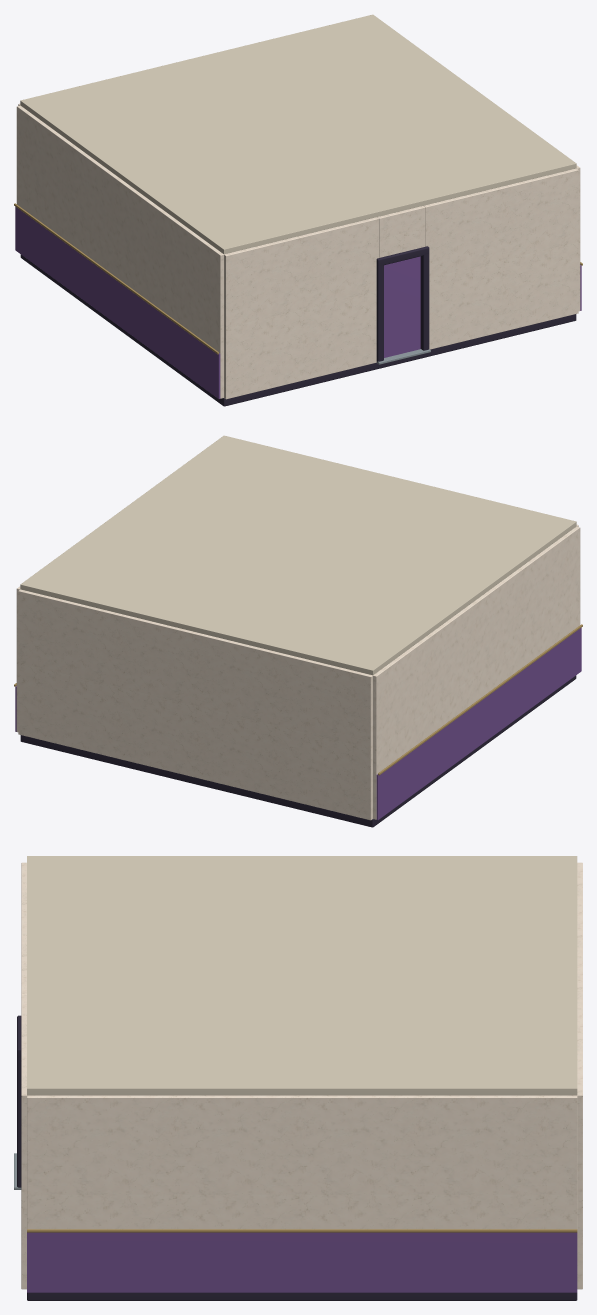
Rendered from mirror_waiting.glb.
3 renders of one model, top to bottom at view 1: azimuth 30°, elevation 25°; view 2: azimuth 150°, elevation 25°; view 3: azimuth 270°, elevation 25°, orthographic. The views are drawn at different scales.
Visible parts, largest first — view 1: ceiling.019, wall.050, wall.049, wall.052, lower_panel.051, front.022_leaf, mirror_waiting_floor, door_lintel.012, front.022_jamb, panel_rail.051, front.022_jamb.001; view 2: ceiling.019, wall.051, wall.052, lower_panel.051, mirror_waiting_floor, panel_rail.051; view 3: ceiling.019, wall.053, lower_panel.052, mirror_waiting_floor, wall.051, panel_rail.052, wall.049, front.022_jamb, wall.050.
Part boxes in pixels (left/top/right/bottom): ceiling.019: left=20, top=14, right=576, bottom=254; wall.050: left=224, top=217, right=378, bottom=399; wall.049: left=423, top=168, right=578, bottom=349; wall.052: left=16, top=105, right=223, bottom=398; lower_panel.051: left=15, top=206, right=220, bottom=398; front.022_leaf: left=384, top=256, right=420, bottom=357; mirror_waiting_floor: left=20, top=254, right=576, bottom=406; door_lintel.012: left=377, top=206, right=425, bottom=257; front.022_jamb: left=420, top=253, right=429, bottom=350; panel_rail.051: left=14, top=203, right=218, bottom=354; front.022_jamb.001: left=376, top=262, right=383, bottom=362; ceiling.019: left=20, top=435, right=576, bottom=675; wall.051: left=18, top=589, right=372, bottom=820; wall.052: left=373, top=526, right=580, bottom=819; lower_panel.051: left=376, top=627, right=581, bottom=819; mirror_waiting_floor: left=20, top=675, right=576, bottom=827; panel_rail.051: left=378, top=624, right=582, bottom=775; ceiling.019: left=27, top=856, right=577, bottom=1095; wall.053: left=27, top=1095, right=577, bottom=1229; lower_panel.052: left=27, top=1232, right=577, bottom=1292; mirror_waiting_floor: left=27, top=1292, right=577, bottom=1300; wall.051: left=577, top=862, right=582, bottom=1289; panel_rail.052: left=27, top=1229, right=577, bottom=1232; wall.049: left=21, top=994, right=26, bottom=1289; front.022_jamb: left=17, top=1054, right=21, bottom=1187; wall.050: left=21, top=862, right=26, bottom=963.
Bounding box in the file's own units: 9.32 × 3.84 × 9.3.
8 materials, 2 textured.
